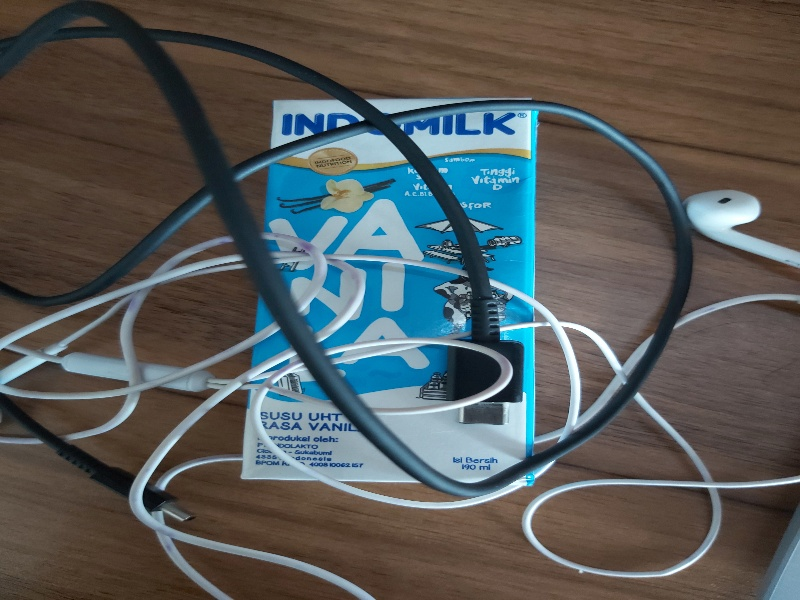vanilla: (239, 98, 540, 488)
